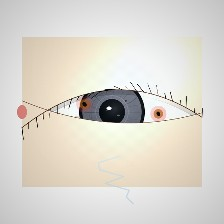foreign_body_visible: (147, 104, 170, 123)
